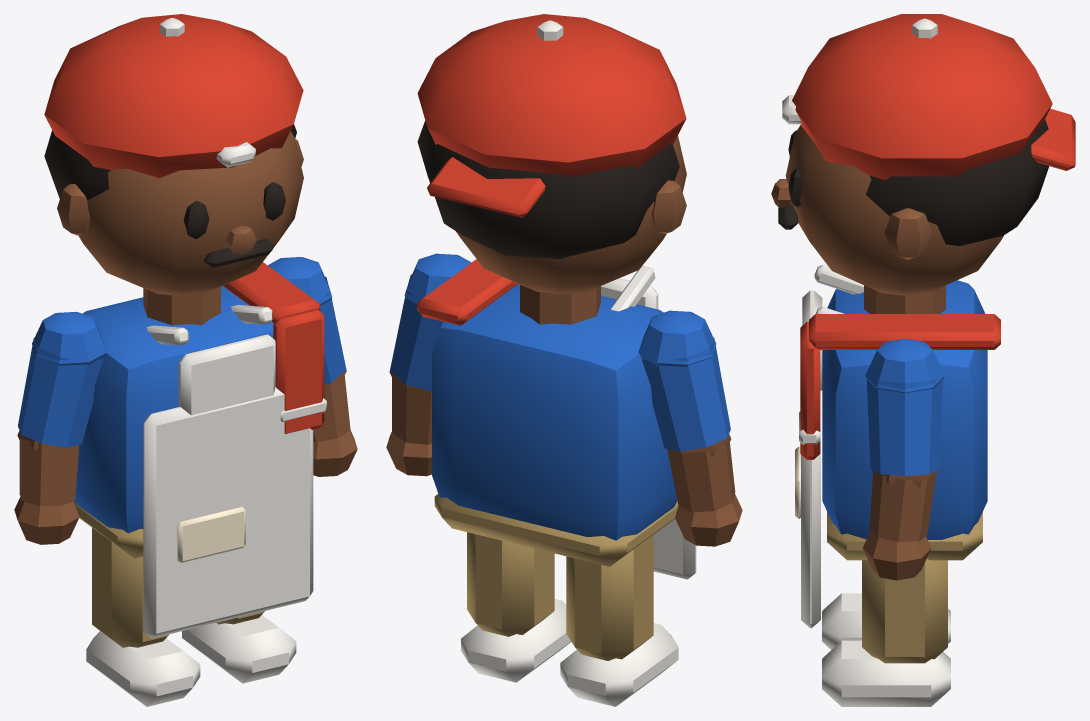
The model's file is sonu.glb.
3 renders of one model, left to right at view 1: azimuth 30°, elevation 25°; view 2: azimuth 150°, elevation 25°; view 3: azimuth 270°, elevation 25°, orthographic. The views are drawn at different scales.
Visible parts, largest first — view 1: body, head, arm_r, leg_r, arm_l, leg_l; view 2: body, head, arm_r, leg_r, leg_l, arm_l; view 3: head, body, arm_l, leg_l, leg_r.
Part boxes in pixels (x1,y1,x2,y2): body: (74, 262, 326, 638); head: (44, 14, 303, 296); arm_r: (14, 311, 106, 544); leg_r: (86, 527, 200, 706); arm_l: (268, 257, 357, 476); leg_l: (182, 611, 296, 683); body: (417, 259, 696, 579); head: (417, 14, 686, 294); arm_r: (638, 310, 742, 546); leg_r: (560, 535, 678, 706); leg_l: (461, 532, 571, 682); arm_l: (386, 253, 471, 476); head: (771, 14, 1075, 295); body: (795, 264, 1000, 628); arm_l: (862, 338, 944, 580); leg_l: (822, 559, 950, 706); leg_r: (822, 593, 950, 649).
Size of the model in its own units: 0.598 by 1.09 by 0.4598.
1 material, 1 textured.
